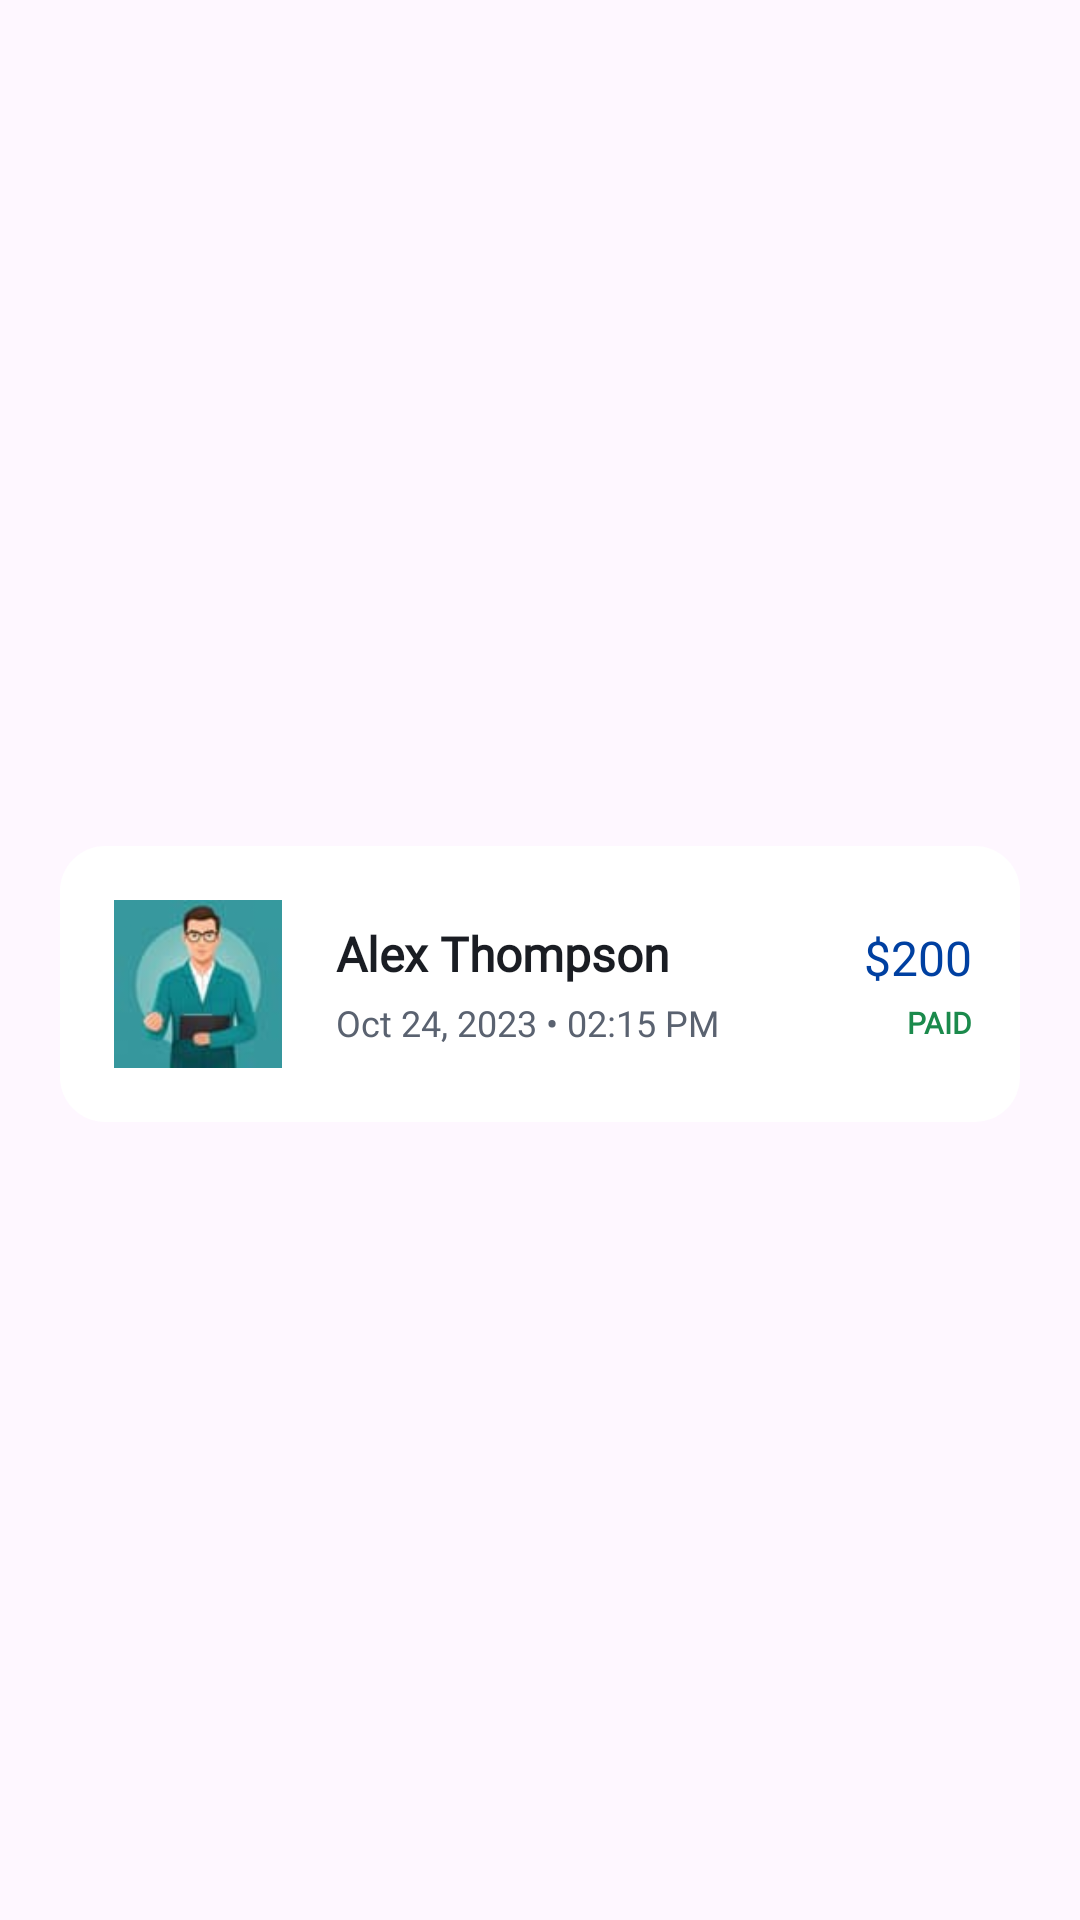

Screen size 1080px x 1920px. Icon name, then its box in pixels as region(x1, y1, x2, y2):
customerpic: region(114, 900, 282, 1068)
